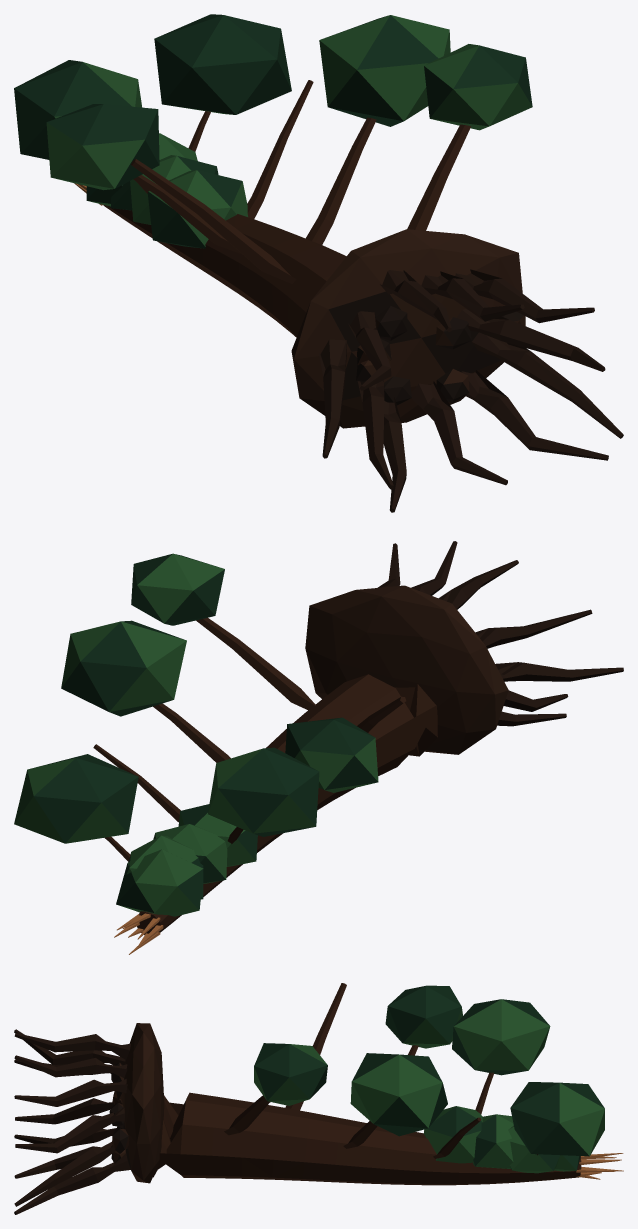
File: DISASTER_10_UprootedTree.obj
3 views of the same model, one above another, from view 1: azimuth 30°, elevation 25°; view 2: azimuth 150°, elevation 25°; view 3: azimuth 270°, elevation 25° (orthographic). The views are drawn at different scales.
Parts seen in each view (by area): view 1: DISASTER_10_UprootedTree_Foliage, DISASTER_10_UprootedTree_Root_Plate, DISASTER_10_UprootedTree_Roots, DISASTER_10_UprootedTree_Branches, DISASTER_10_UprootedTree_Trunk; view 2: DISASTER_10_UprootedTree_Foliage, DISASTER_10_UprootedTree_Root_Plate, DISASTER_10_UprootedTree_Trunk, DISASTER_10_UprootedTree_Roots, DISASTER_10_UprootedTree_Branches, DISASTER_10_UprootedTree_Splinters; view 3: DISASTER_10_UprootedTree_Foliage, DISASTER_10_UprootedTree_Trunk, DISASTER_10_UprootedTree_Roots, DISASTER_10_UprootedTree_Root_Plate, DISASTER_10_UprootedTree_Branches, DISASTER_10_UprootedTree_Splinters.
Boxes of the visible parts, bbox=[...] form: DISASTER_10_UprootedTree_Foliage: bbox=[14, 14, 532, 248]; DISASTER_10_UprootedTree_Root_Plate: bbox=[291, 229, 525, 428]; DISASTER_10_UprootedTree_Roots: bbox=[319, 269, 623, 512]; DISASTER_10_UprootedTree_Branches: bbox=[131, 80, 470, 283]; DISASTER_10_UprootedTree_Trunk: bbox=[103, 205, 346, 337]; DISASTER_10_UprootedTree_Foliage: bbox=[14, 553, 378, 916]; DISASTER_10_UprootedTree_Root_Plate: bbox=[305, 585, 508, 754]; DISASTER_10_UprootedTree_Trunk: bbox=[137, 674, 437, 934]; DISASTER_10_UprootedTree_Roots: bbox=[377, 541, 623, 726]; DISASTER_10_UprootedTree_Branches: bbox=[93, 617, 406, 861]; DISASTER_10_UprootedTree_Splinters: bbox=[114, 913, 163, 954]; DISASTER_10_UprootedTree_Foliage: bbox=[254, 985, 604, 1173]; DISASTER_10_UprootedTree_Trunk: bbox=[153, 1092, 581, 1185]; DISASTER_10_UprootedTree_Roots: bbox=[14, 1029, 130, 1214]; DISASTER_10_UprootedTree_Root_Plate: bbox=[109, 1023, 164, 1183]; DISASTER_10_UprootedTree_Branches: bbox=[224, 983, 537, 1158]; DISASTER_10_UprootedTree_Splinters: bbox=[576, 1153, 623, 1179].
Bounding box in the file's own units: 4.11 × 2.7 × 7.62.
